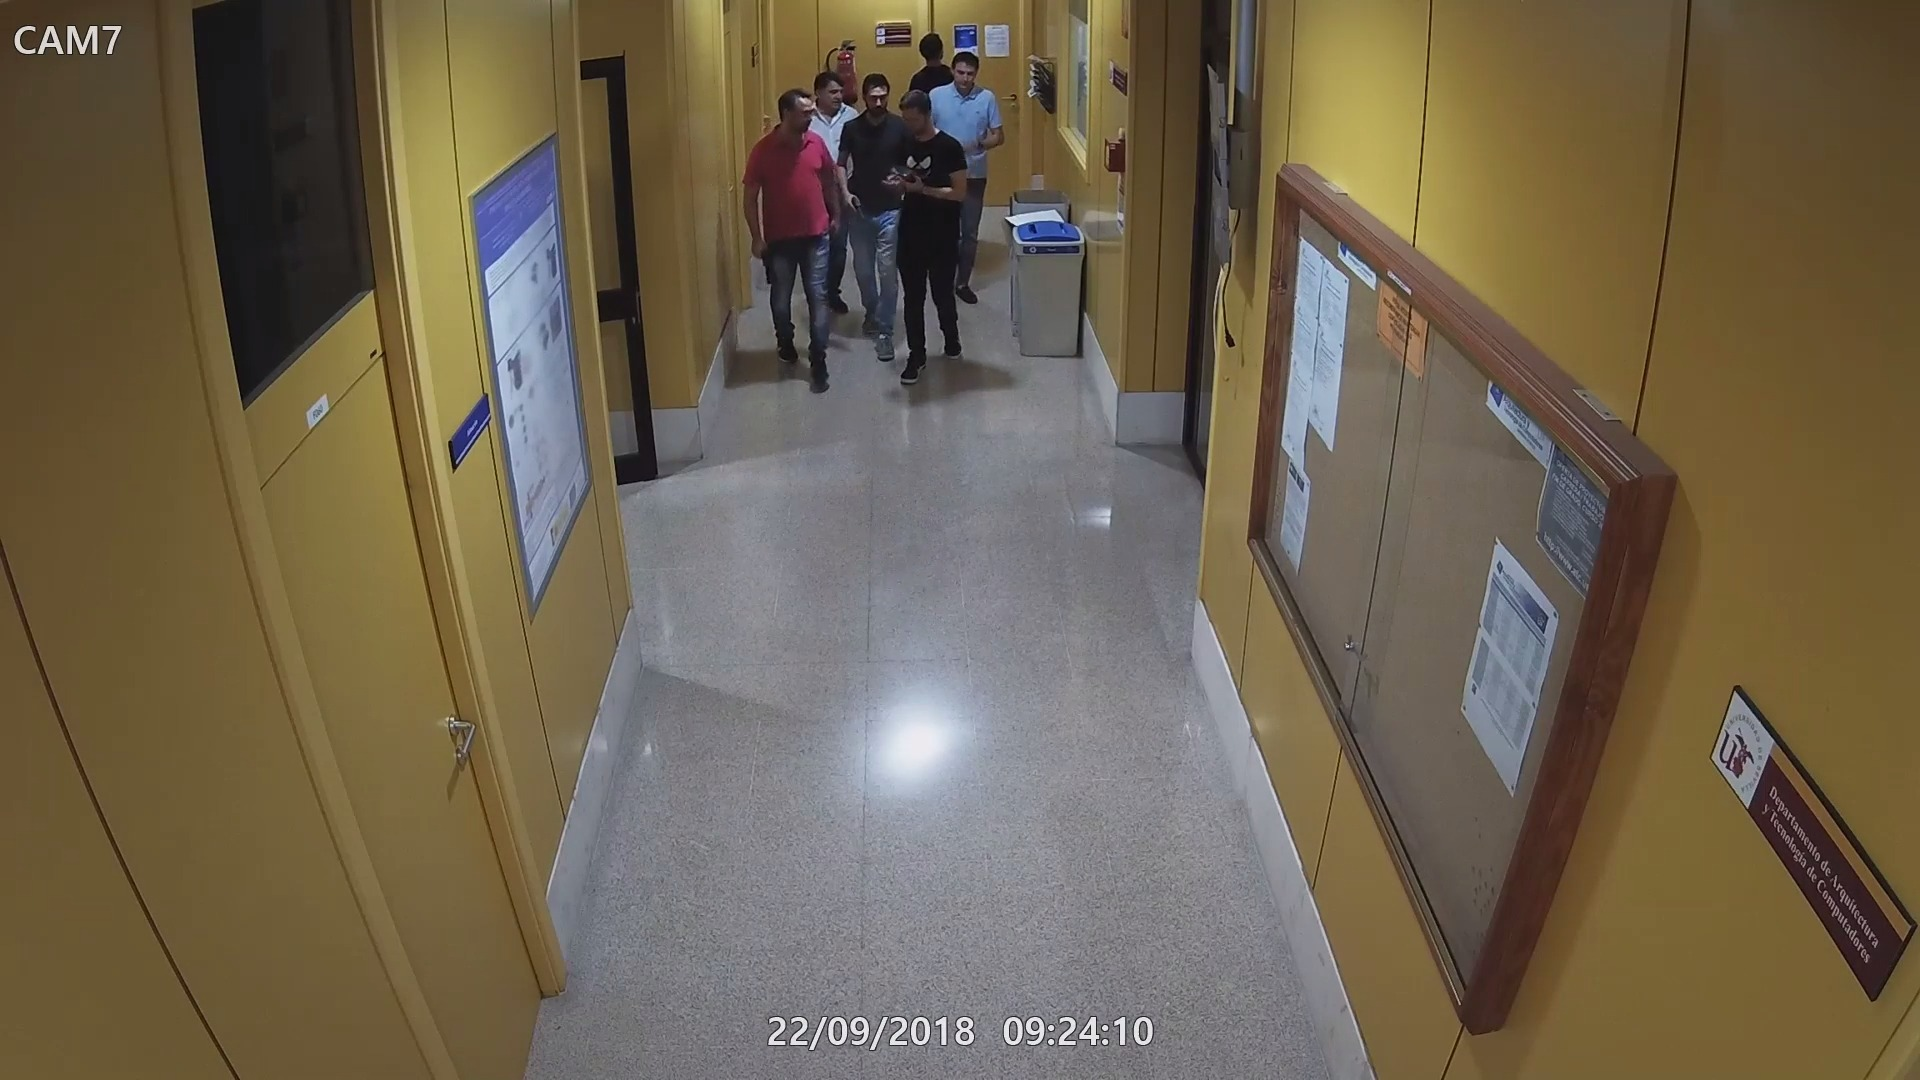Handgun: (843, 190, 872, 229), (752, 241, 778, 281)
